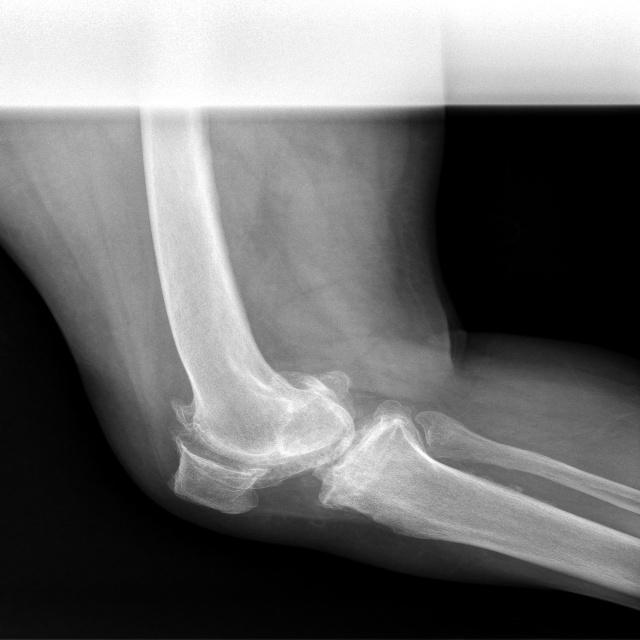Knee: (162, 364, 434, 529)
